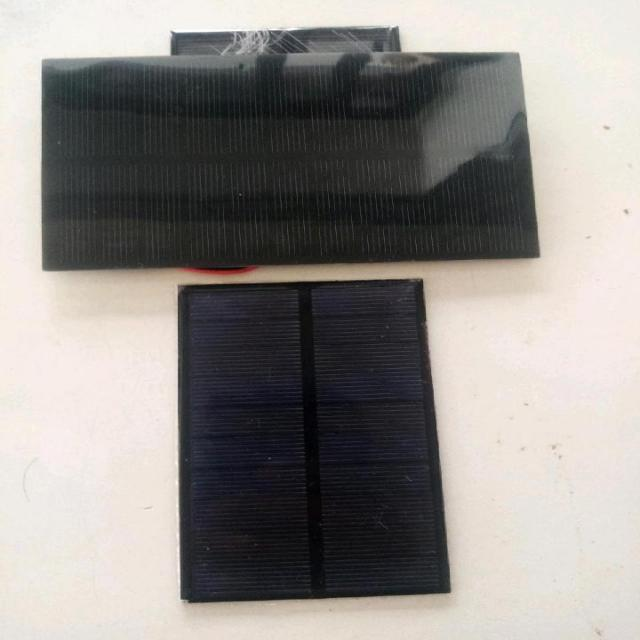no faulty: (47, 69, 531, 264), (185, 282, 446, 602)
